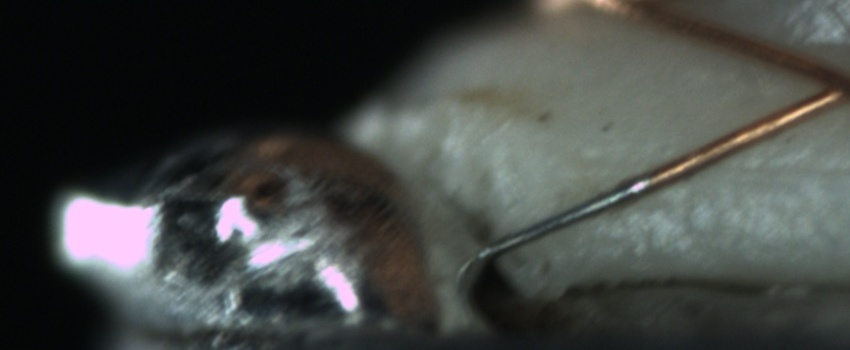CL: (794, 54, 850, 113)
DL: (587, 139, 849, 193)
TS: (477, 176, 649, 261)
TTCW: (476, 137, 732, 258)
